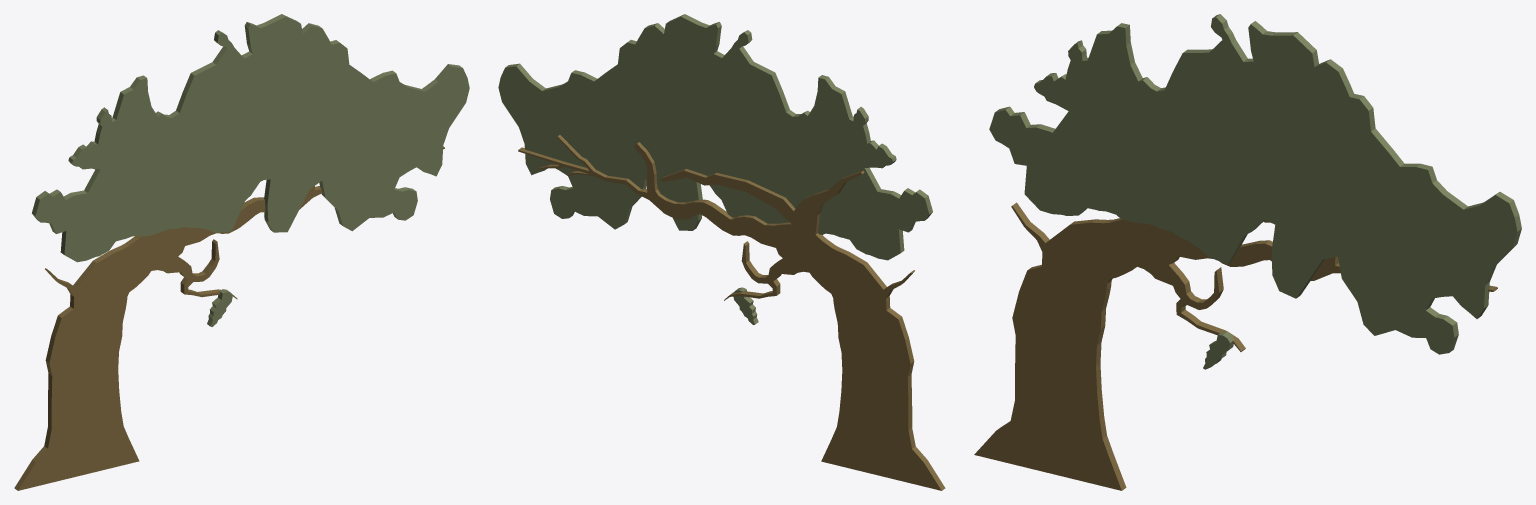
Rendered from Tree_3.fbx.
3 renders of one model, left to right at view 1: azimuth 30°, elevation 25°; view 2: azimuth 150°, elevation 25°; view 3: azimuth 330°, elevation 25°, orthographic. The views are drawn at different scales.
Parts seen in each view (by area): view 1: pPlane50, pPlane49, pPlane51; view 2: pPlane50, pPlane49; view 3: pPlane50, pPlane49, pPlane51.
Part boxes in pixels (x1,y1,x2,y2): pPlane50: (32, 14, 469, 262); pPlane49: (14, 146, 444, 490); pPlane51: (207, 289, 232, 326); pPlane50: (498, 14, 932, 260); pPlane49: (518, 135, 945, 490); pPlane50: (989, 14, 1521, 354); pPlane49: (974, 202, 1497, 490); pPlane51: (1203, 331, 1234, 369).
Bounding box in the file's own units: 2.13 × 1.87 × 0.0513.
